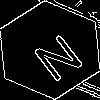N: (25, 25, 86, 84)
